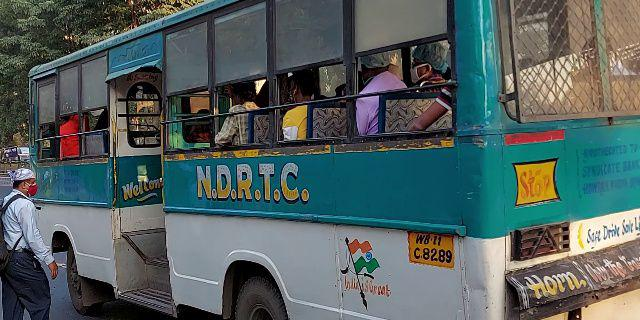Bus: (25, 3, 640, 320)
